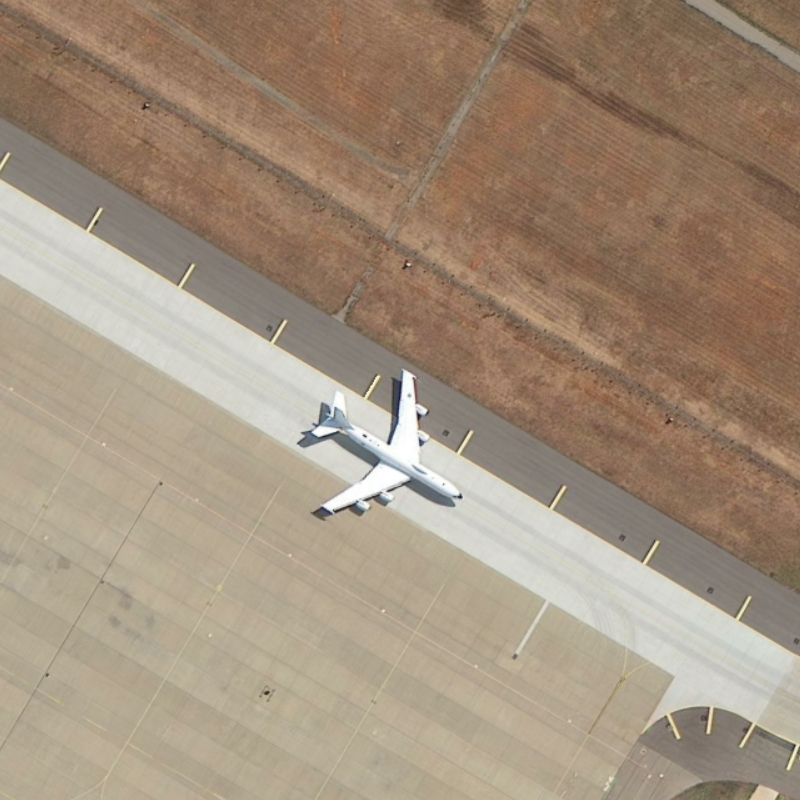A11: (295, 361, 473, 530)
